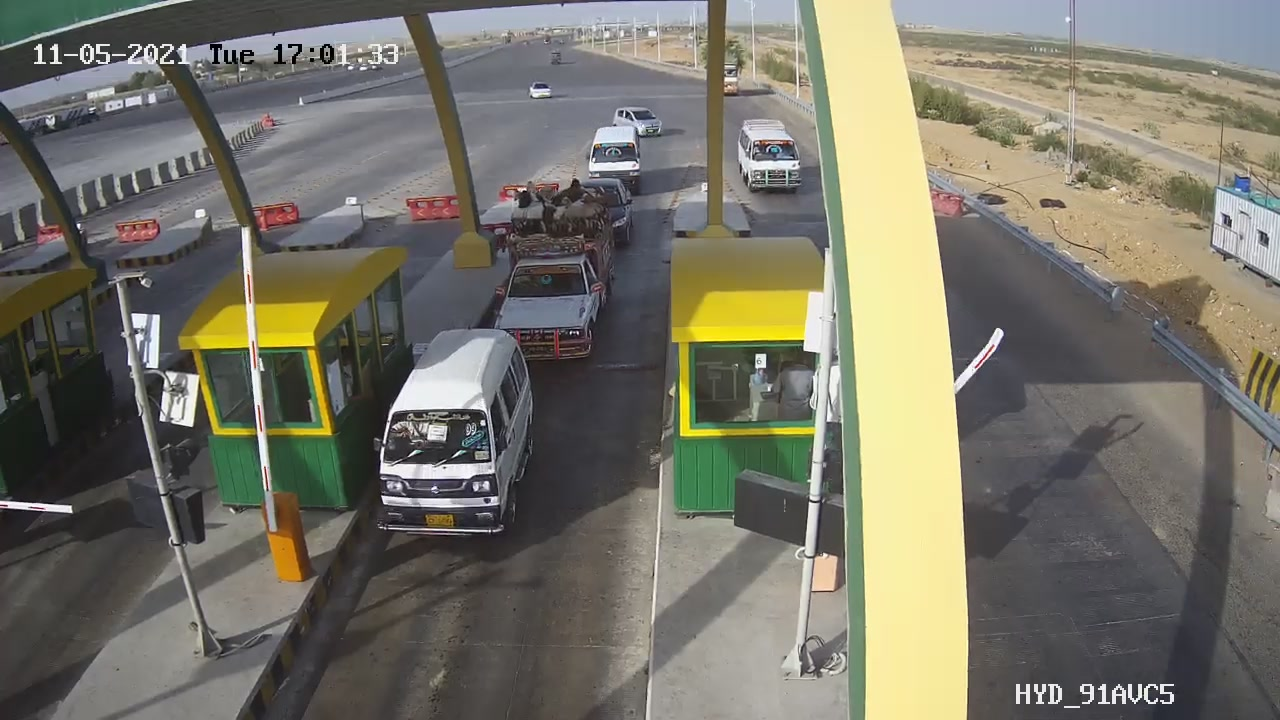F1: (357, 320, 553, 552)
